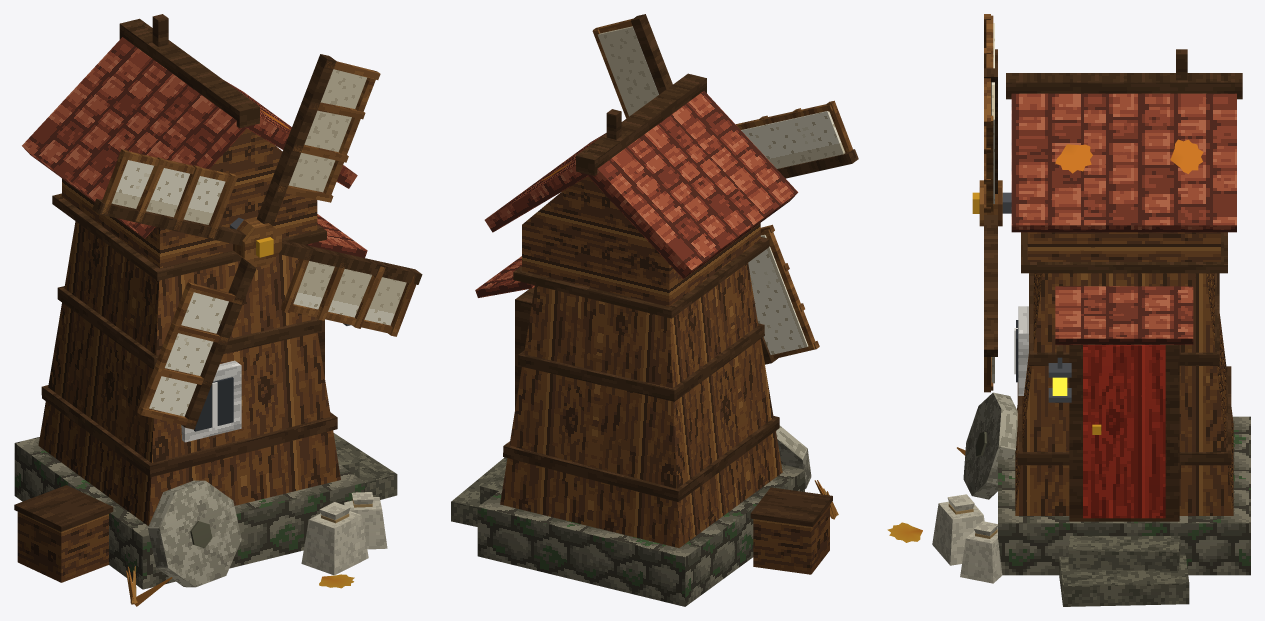
File: decor_windmill.glb
The picture shows the model from 3 angles, left to right: view 1: azimuth 30°, elevation 25°; view 2: azimuth 150°, elevation 25°; view 3: azimuth 270°, elevation 25°; orthographic projection. The views are drawn at different scales.
Visible parts, largest first — view 1: decor_windmill, spinY_blades; view 2: decor_windmill, spinY_blades; view 3: decor_windmill, spinY_blades.
Boxes of the visible parts, <box> form: decor_windmill: <box>14,14,397,606</box>; spinY_blades: <box>92,54,422,429</box>; decor_windmill: <box>451,73,838,606</box>; spinY_blades: <box>592,14,858,364</box>; decor_windmill: <box>887,49,1250,606</box>; spinY_blades: <box>972,14,1002,392</box>.
Size of the model in its own units: 3.52 by 4.69 by 3.16.
23 materials, 12 textured.
